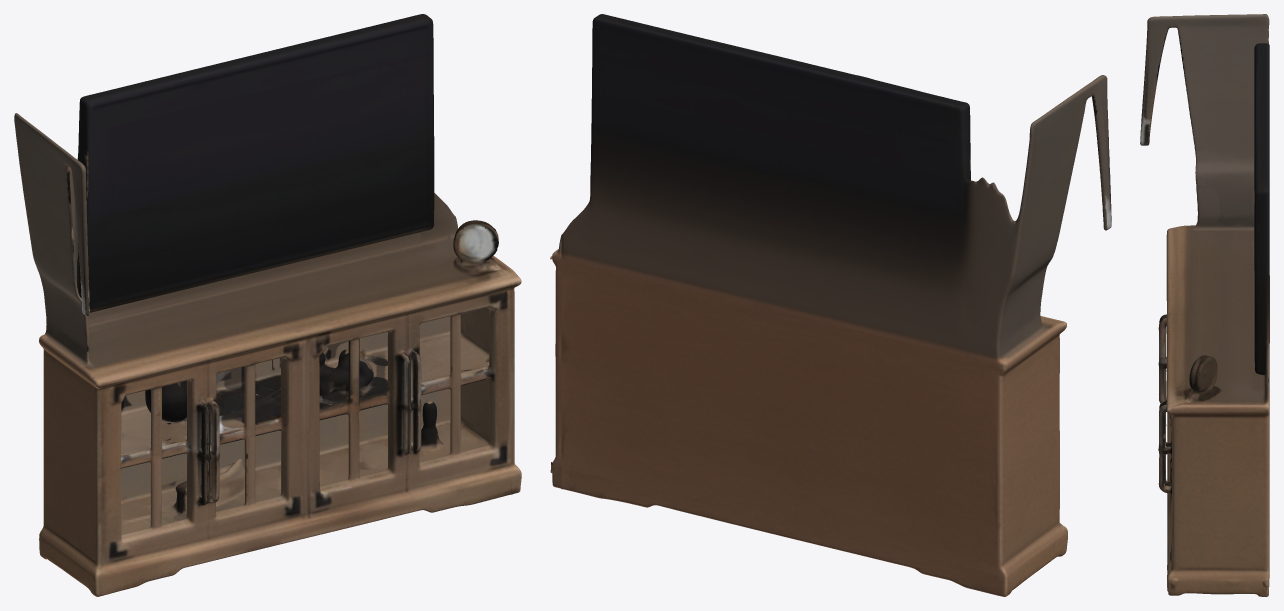
File: product-farmhouse-abigail-58-farmhouse-4-door-tv-stand-grey-wash-02.glb
3 renders of one model, left to right at view 1: azimuth 30°, elevation 25°; view 2: azimuth 150°, elevation 25°; view 3: azimuth 270°, elevation 25°, orthographic. The views are drawn at different scales.
Visible parts, largest first — view 1: geometry_0; view 2: geometry_0; view 3: geometry_0.
Part boxes in pixels (<box>): geometry_0: <box>14,14,521,596</box>; geometry_0: <box>550,14,1111,596</box>; geometry_0: <box>1140,14,1269,596</box>.
Size of the model in its own units: 1.98 by 1.88 by 0.5634.
Materials: 1 (1 with a texture image).
